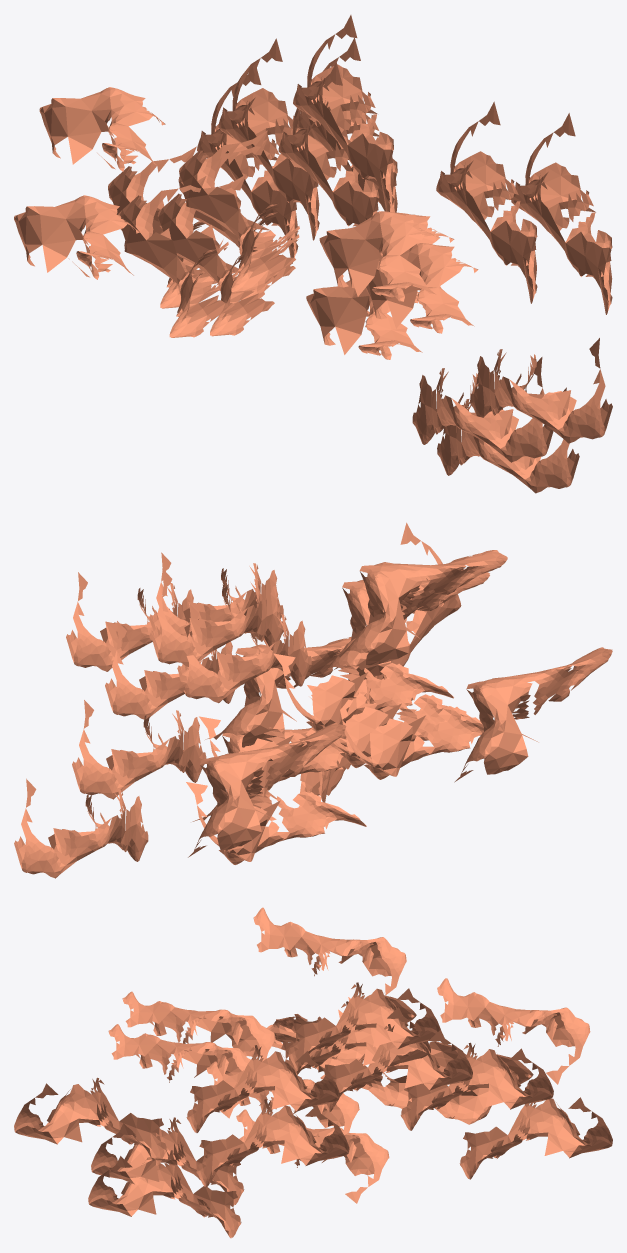
The model's file is bonito flakes.fbx.
The picture shows the model from 3 angles, top to bottom: view 1: azimuth 30°, elevation 25°; view 2: azimuth 150°, elevation 25°; view 3: azimuth 270°, elevation 25°; orthographic projection. The views are drawn at different scales.
Visible parts, largest first — view 1: bonito flakes.002, bonito flakes.008, bonito flakes.010, bonito flakes, bonito flakes.003, bonito flakes.011, bonito flakes.018, bonito flakes.015, bonito flakes.006, bonito flakes.005, bonito flakes.016, bonito flakes.007 (+8 smaller); view 2: bonito flakes, bonito flakes.015, bonito flakes.018, bonito flakes.017, bonito flakes.005, bonito flakes.011, bonito flakes.003, bonito flakes.010, bonito flakes.014, bonito flakes.004, bonito flakes.013, bonito flakes.008 (+9 smaller); view 3: bonito flakes.008, bonito flakes.002, bonito flakes.017, bonito flakes.006, bonito flakes.010, bonito flakes.020, bonito flakes.005, bonito flakes.018, bonito flakes.015, bonito flakes, bonito flakes.001, bonito flakes.016 (+8 smaller).
Part boxes in pixels (box(x1,y1,x2,y2)): bonito flakes.002: box(436, 101, 537, 303); bonito flakes.008: box(511, 113, 612, 314); bonito flakes.010: box(293, 15, 394, 211); bonito flakes: box(319, 211, 439, 301); bonito flakes.003: box(179, 130, 299, 292); bonito flakes.011: box(118, 176, 238, 337); bonito flakes.018: box(39, 87, 165, 171); bonito flakes.015: box(14, 195, 139, 279); bonito flakes.006: box(470, 338, 612, 443); bonito flakes.005: box(218, 38, 319, 240); bonito flakes.016: box(412, 357, 553, 462); bonito flakes.007: box(157, 174, 278, 336); bonito flakes: box(334, 550, 507, 665); bonito flakes.015: box(454, 647, 612, 782); bonito flakes.018: box(188, 722, 346, 857); bonito flakes.017: box(14, 778, 148, 878); bonito flakes.005: box(72, 700, 206, 799); bonito flakes.011: box(340, 699, 483, 779); bonito flakes.003: box(273, 653, 453, 731); bonito flakes.010: box(150, 568, 283, 666); bonito flakes.014: box(177, 603, 311, 703); bonito flakes.004: box(205, 637, 351, 747); bonito flakes.013: box(186, 782, 366, 864); bonito flakes.008: box(66, 572, 193, 671); bonito flakes.008: box(196, 1099, 349, 1187); bonito flakes.002: box(186, 1045, 339, 1132); bonito flakes.017: box(459, 1097, 612, 1179); bonito flakes.006: box(14, 1077, 167, 1165); bonito flakes.010: box(288, 982, 440, 1070); bonito flakes.020: box(88, 1150, 241, 1238); bonito flakes.005: box(400, 1042, 553, 1130); bonito flakes.018: box(437, 978, 590, 1084); bonito flakes.015: box(253, 907, 406, 994); bonito flakes: box(122, 991, 275, 1061); bonito flakes.001: box(323, 1024, 472, 1111); bonito flakes.016: box(91, 1117, 244, 1205).
Size of the model in its own units: 541 by 350 by 731.
